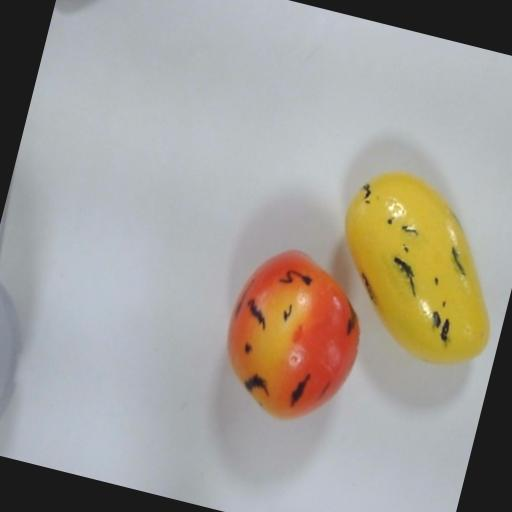Defective: (306, 156, 512, 375), (191, 230, 378, 434)
